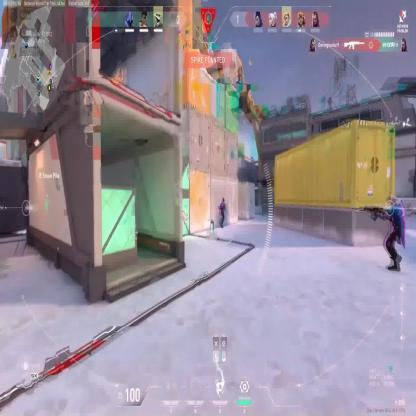enemy: (219, 196, 225, 227)
enemy_head: (222, 198, 225, 204)
